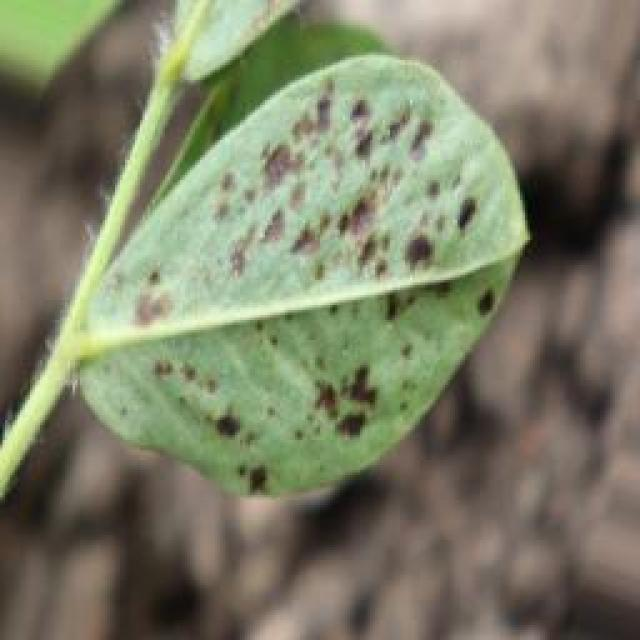Whitefly: (82, 0, 516, 519)
